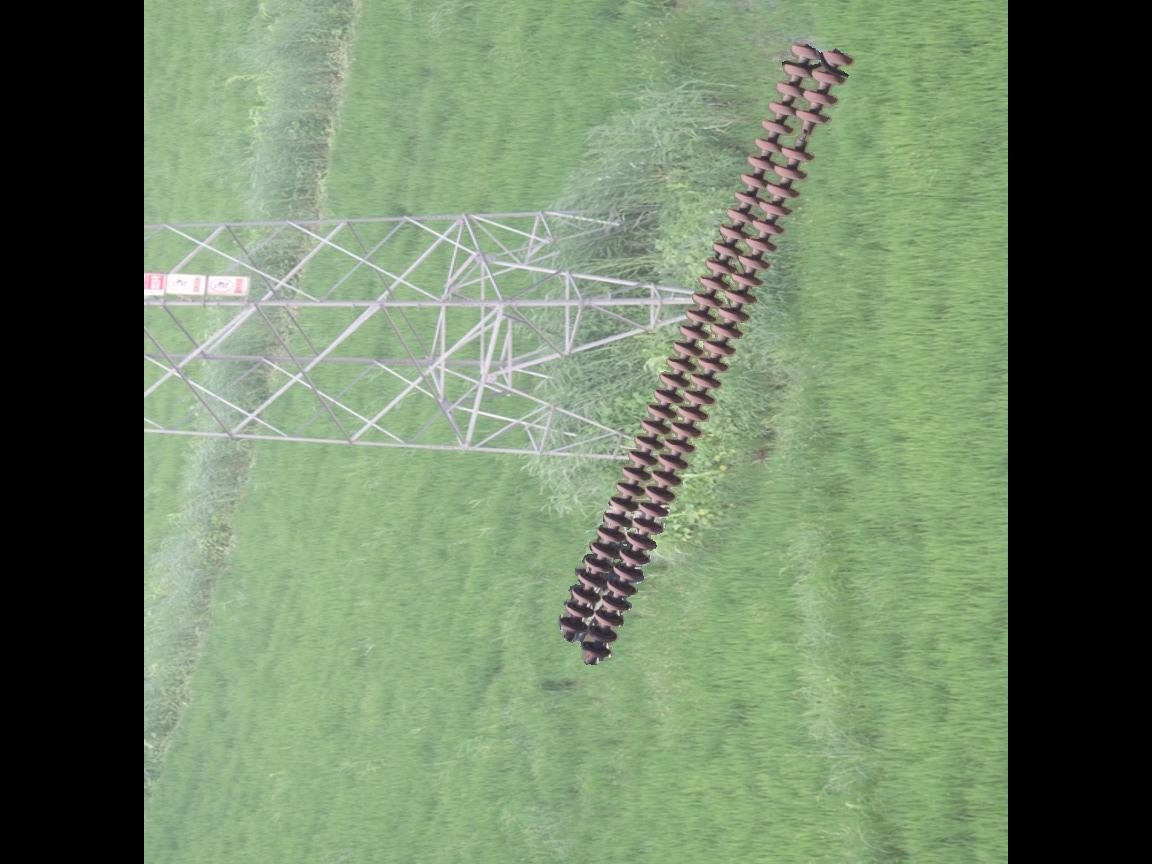insulator: (556, 39, 856, 671)
insulator_stringdrop: (780, 106, 833, 166)
